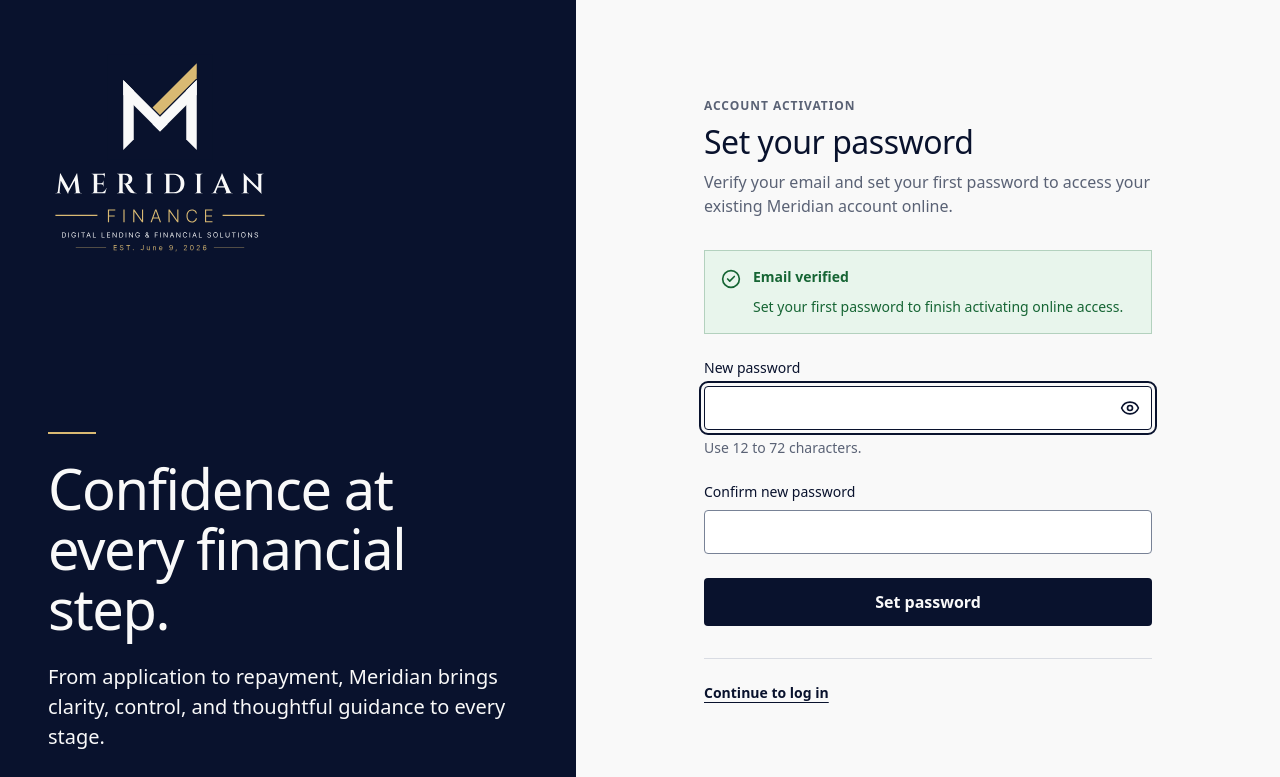
Test: scrubs both secrets immediately, verifies once, then sets the first password without a recovery email or login
This screenshot has width=1280, height=777.
Expected: the heading "Set your password" is shown, [704, 120, 973, 162]
Type "Customer-password-123" into the password field labelled "New password".
click(928, 408); type("Customer-password-123")  # box [704, 386, 1152, 430]
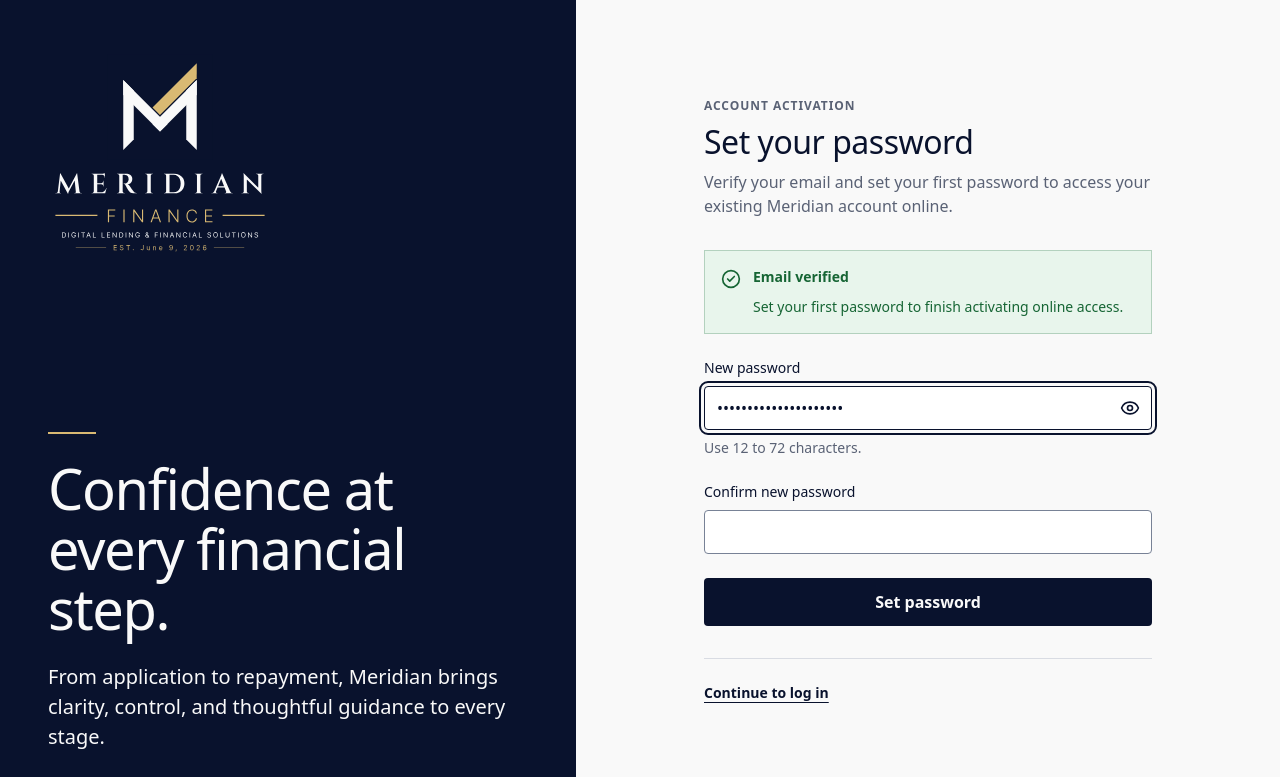
Type "Customer-password-123" into the password field labelled "Confirm new password".
click(928, 532); type("Customer-password-123")  # box [704, 510, 1152, 554]
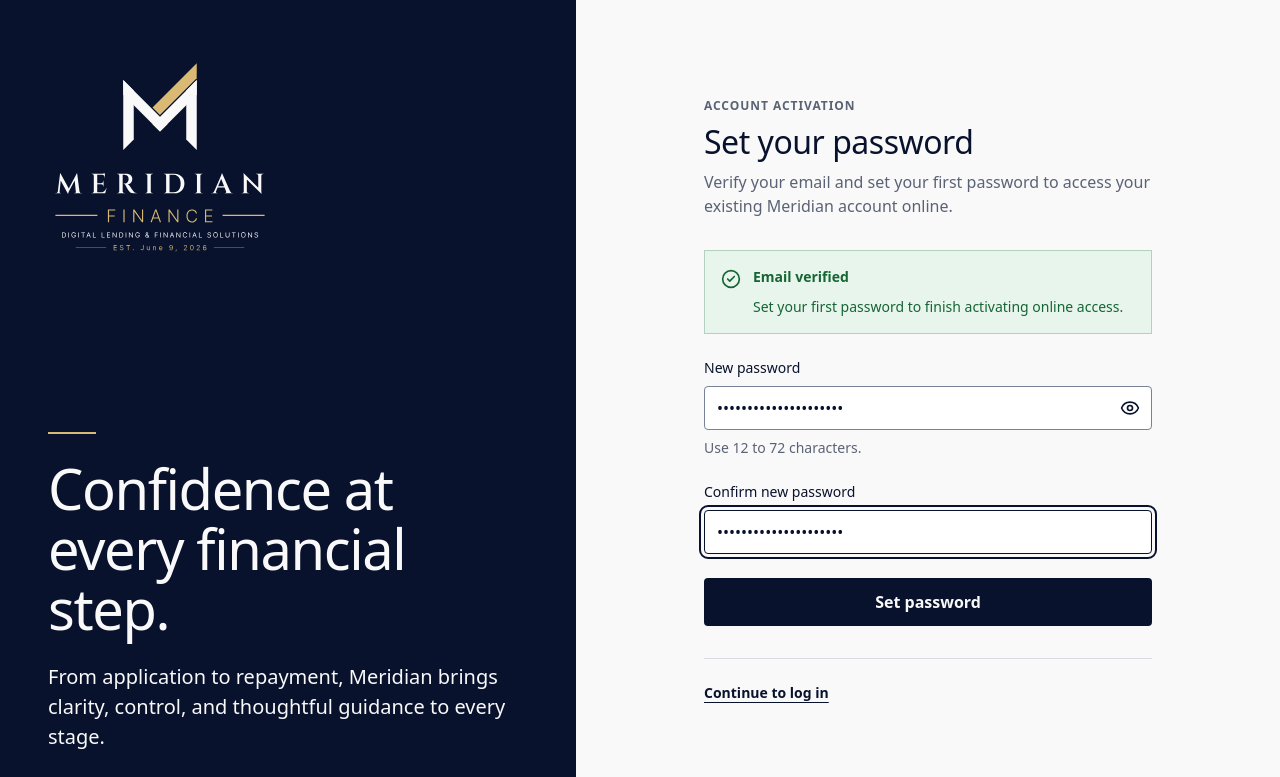
Click the button "Set password".
click(928, 602)  # box [704, 578, 1152, 626]
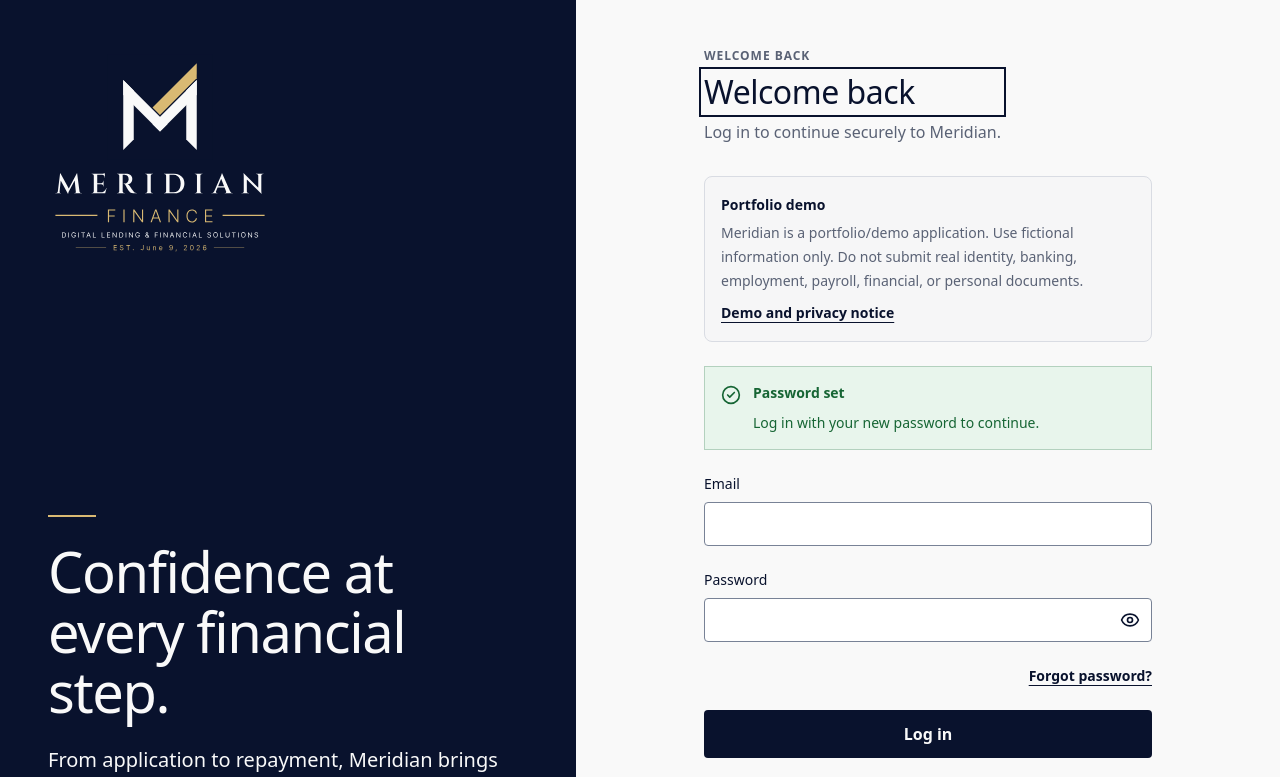
Result: the text "Log in with your new password to continue." is shown at [753, 413, 1039, 432]
